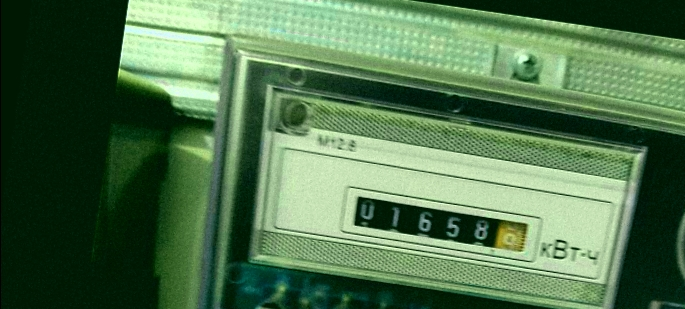0: (358, 198, 378, 221)
1: (387, 203, 404, 229)
5: (444, 213, 463, 239)
6: (416, 208, 437, 234)
8: (472, 217, 492, 241)
9: (500, 229, 519, 252)
screen: (336, 181, 548, 268)
